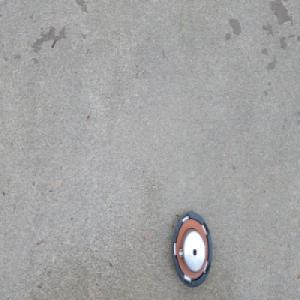FuelCap: (167, 206, 210, 285)
